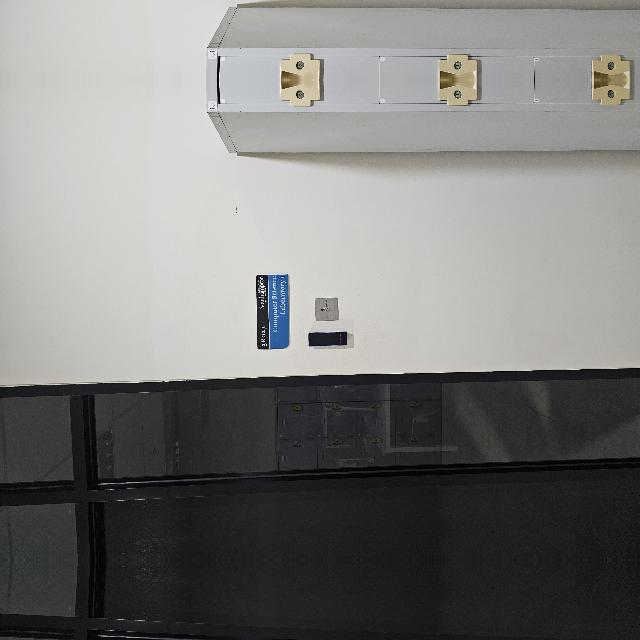obstacle: (403, 284, 478, 640), (403, 402, 478, 640)
